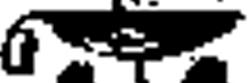Basket: (0, 5, 247, 80)
